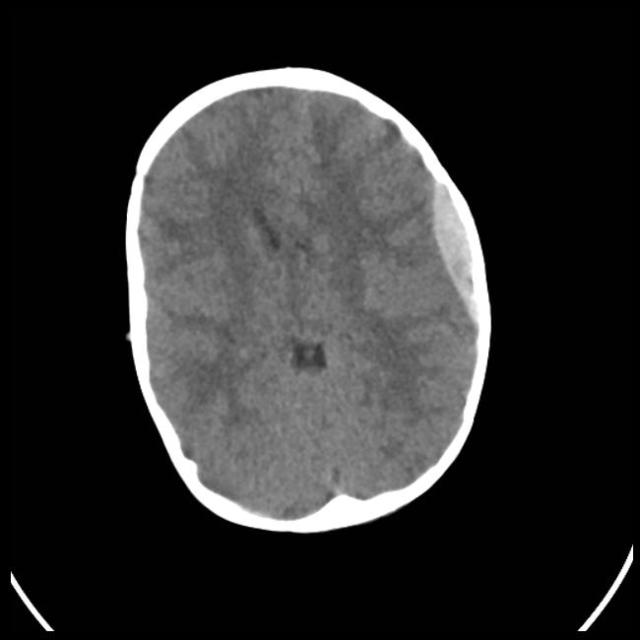lesion: (418, 164, 498, 351)
